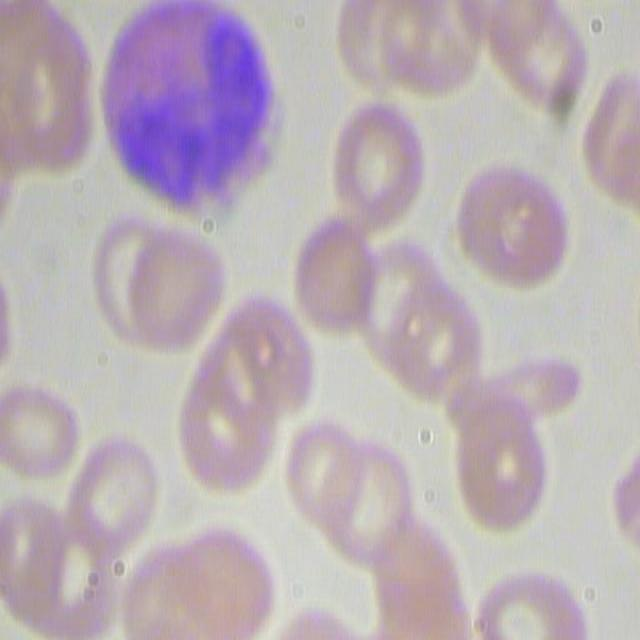RBC: (180, 295, 295, 498), (137, 527, 335, 640), (86, 205, 224, 358), (292, 419, 422, 560), (2, 0, 102, 177), (453, 164, 571, 300), (448, 380, 552, 532), (372, 261, 480, 406), (332, 0, 482, 104), (2, 517, 125, 638), (288, 200, 384, 349), (323, 90, 426, 228), (62, 436, 162, 557), (488, 0, 593, 114), (0, 380, 81, 511), (470, 561, 594, 638), (372, 536, 462, 630), (582, 71, 640, 209)
WBC: (114, 21, 286, 198)
